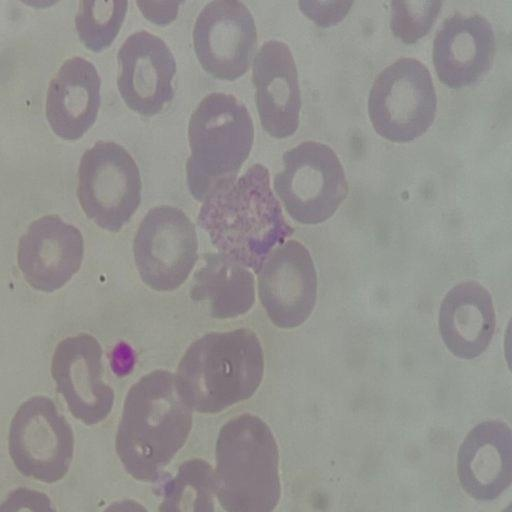Infected: (199, 164, 296, 274)
Uninfected: (114, 371, 193, 480), (175, 329, 263, 414), (210, 413, 279, 510), (184, 92, 255, 186), (277, 141, 350, 223), (131, 205, 199, 292), (6, 395, 72, 482), (367, 59, 437, 141), (50, 334, 113, 425), (76, 141, 141, 229), (257, 239, 319, 326), (17, 214, 84, 292), (116, 32, 178, 115), (192, 2, 256, 79), (46, 56, 102, 141), (252, 41, 302, 136), (189, 254, 257, 321), (437, 281, 496, 358), (456, 421, 511, 499), (434, 14, 494, 85)
